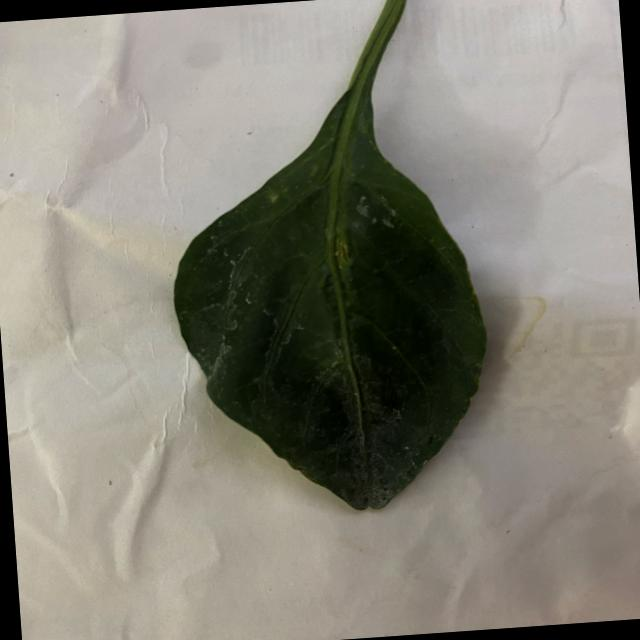Leaf: (157, 90, 502, 526)
